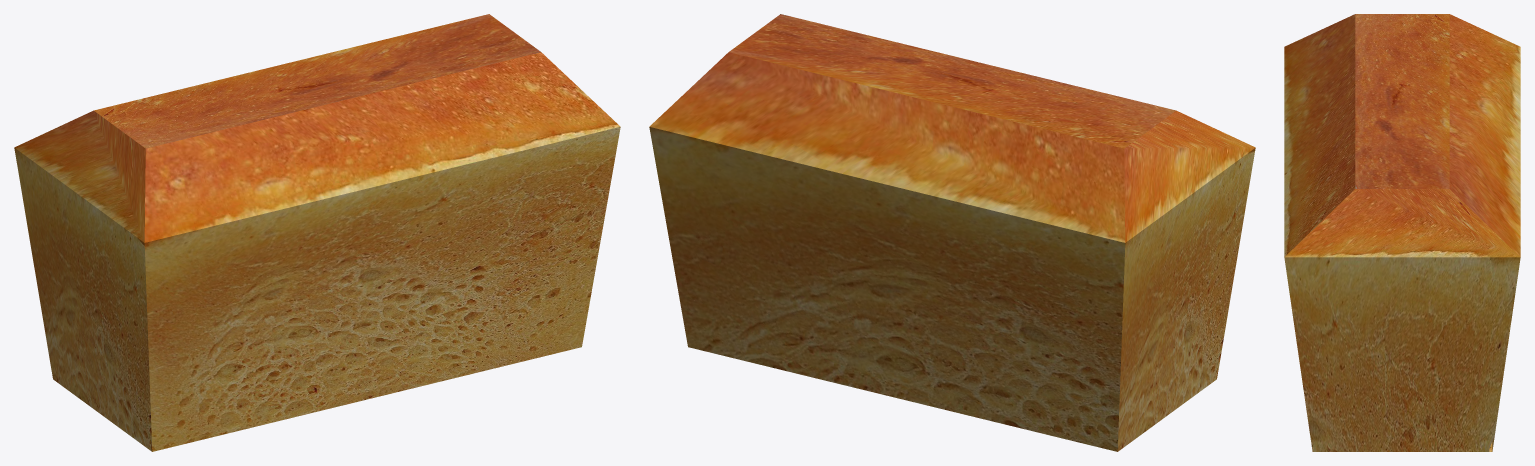
File: 040 - Хлеб.fbx
3 views of the same model, side by side, from view 1: azimuth 30°, elevation 25°; view 2: azimuth 150°, elevation 25°; view 3: azimuth 270°, elevation 25° (orthographic). The views are drawn at different scales.
Parts seen in each view (by area): view 1: Cube; view 2: Cube; view 3: Cube.
Boxes of the visible parts, box(x1,y1,x2,y2) form: Cube: box(14, 14, 620, 451); Cube: box(649, 14, 1255, 451); Cube: box(1284, 14, 1520, 451).
Bounding box in the file's own units: 262 × 148 × 124.
1 material, 1 textured.
